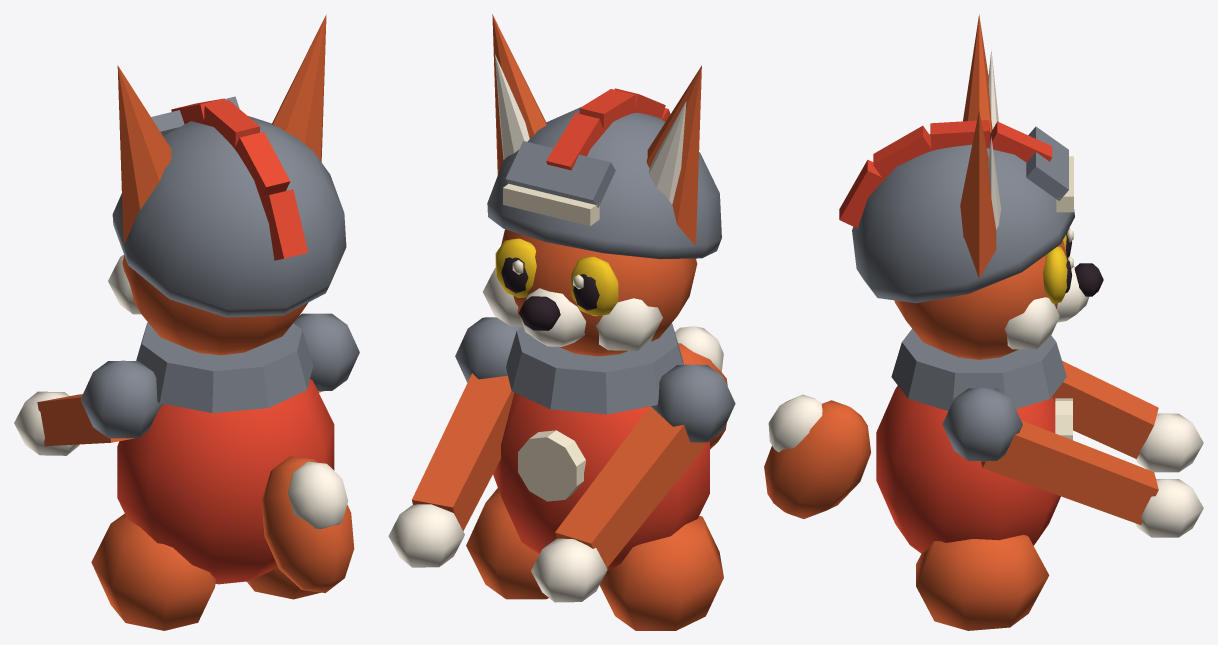
Rendered from char_dog_mascot.glb.
The picture shows the model from 3 angles, left to right: view 1: azimuth 30°, elevation 25°; view 2: azimuth 150°, elevation 25°; view 3: azimuth 270°, elevation 25°; orthographic projection. The views are drawn at different scales.
Parts seen in each view (by area): view 1: Body, Helmet, Tail, HeadMesh, Ear_L, Ear_R; view 2: Body, Helmet, HeadMesh, Ear_L, Ear_R, Tail; view 3: Body, Helmet, HeadMesh, Tail, Ear_R, Ear_L.
Boxes of the visible parts, x1,y1,x2,y2 form: Body: (14,313,359,630); Helmet: (112,96,346,317); Tail: (261,456,354,593); HeadMesh: (108,255,308,355); Ear_L: (117,65,171,244); Ear_R: (272,14,326,161); Body: (388,317,735,630); Helmet: (487,88,721,259); HeadMesh: (483,229,697,356); Ear_L: (646,65,701,245); Ear_R: (492,14,546,174); Tail: (675,326,727,449); Body: (876,329,1203,630); Helmet: (839,120,1074,303); HeadMesh: (894,228,1103,359); Tail: (764,394,870,518); Ear_R: (960,110,1001,277); Ear_L: (963,14,998,132).
Size of the model in its own units: 0.7992 by 1.69 by 1.25.
